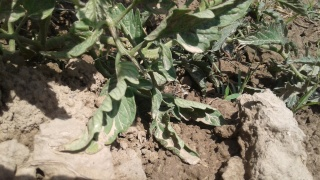tomato plant: (2, 1, 287, 53), (105, 55, 202, 161)
